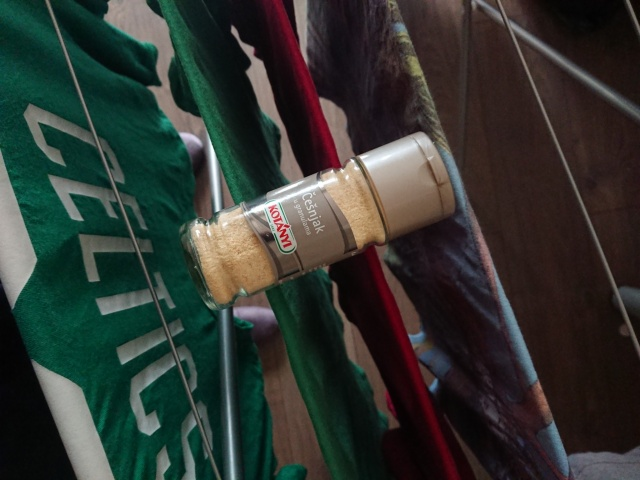Kotanyi Garlic Granules 70g: (174, 129, 459, 314)
